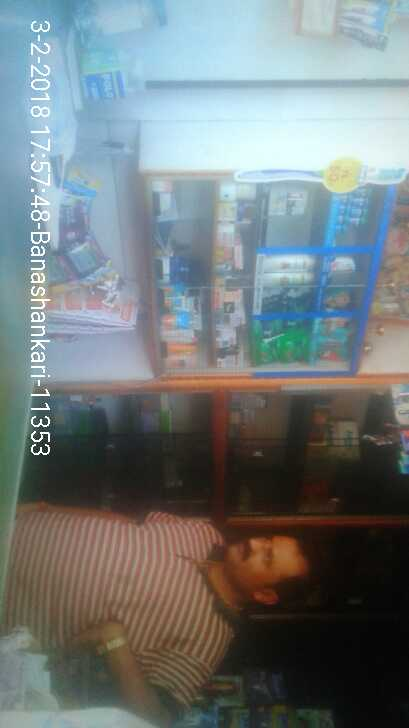beauty: (256, 253, 319, 271), (270, 188, 308, 215), (256, 273, 320, 286), (330, 255, 363, 271)
pharmacy: (256, 322, 309, 364), (318, 317, 352, 363), (350, 205, 373, 218), (355, 187, 375, 199)
